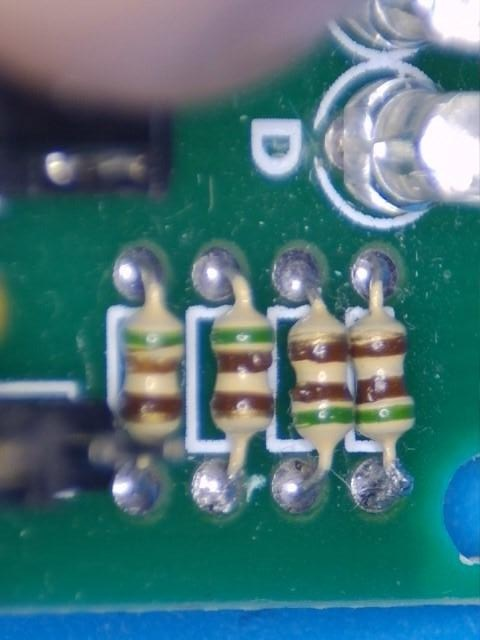pcb_defect: (352, 459, 413, 510)
